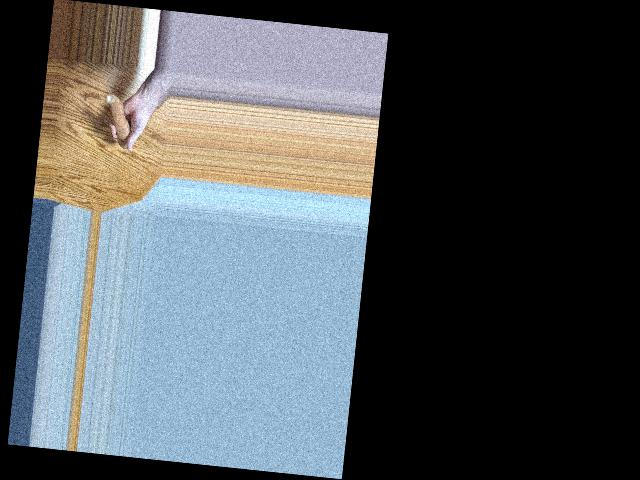sweet_potato: (102, 91, 136, 148)
